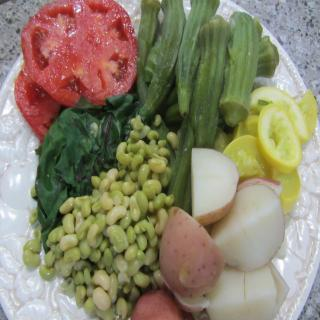tomato: (20, 7, 142, 96), (12, 64, 68, 141)
